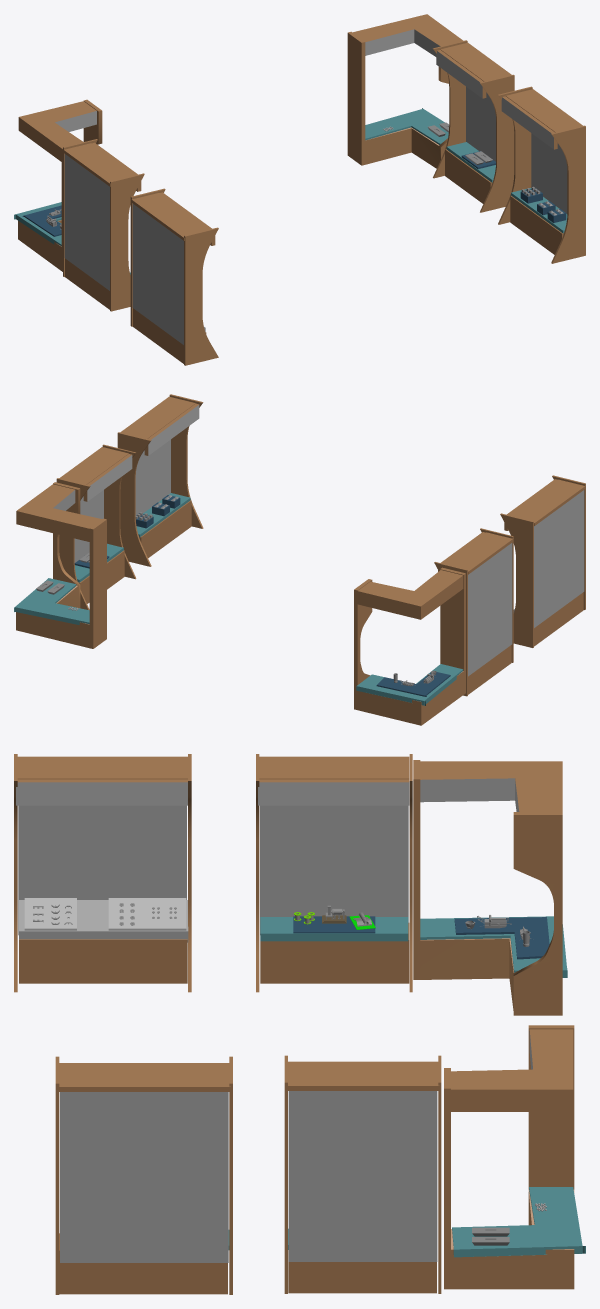
Rendered from ruangan8_gabungan.fbx.
The picture shows the model from 3 angles, top to bottom: view 1: azimuth 30°, elevation 25°; view 2: azimuth 150°, elevation 25°; view 3: azimuth 270°, elevation 25°; orthographic projection. The views are drawn at different scales.
Parts seen in each view (by area): view 1: lemarikapalisapproduksi_ruangana_4 (×4), polySurface191 (×2), polySurface178 (×4), pCube454, pCube455, pCube450, pCube458, pCube465; view 2: lemarikapalisapproduksi_ruangana_4 (×4), polySurface191 (×2), polySurface178 (×4), pCube454, pCube450, pCube455, pCube465; view 3: lemarikapalisapproduksi_ruangana_4 (×4), polySurface191 (×2), polySurface178 (×4), pCube454, pCube421, pCylinder74, pCube436, pCube455, pCube450, pCube449, pCube451, pCube464.
Part boxes in pixels (box(x1,y1,x2,y2)): lemarikapalisapproduksi_ruangana_4 (×4): box(63, 40, 585, 365); polySurface191 (×2): box(18, 14, 463, 271); polySurface178 (×4): box(65, 149, 563, 363); pCube454: box(365, 108, 448, 144); pCube455: box(22, 205, 61, 236); pCube450: box(14, 202, 61, 246); pCube458: box(446, 142, 495, 182); pCube465: box(511, 188, 567, 233); lemarikapalisapproduksi_ruangana_4 (×4): box(56, 394, 585, 696); polySurface191 (×2): box(16, 482, 465, 725); polySurface178 (×4): box(78, 500, 583, 694); pCube454: box(14, 578, 89, 624); pCube450: box(356, 664, 463, 705); pCube455: box(376, 670, 450, 696); pCube465: box(136, 493, 190, 537); lemarikapalisapproduksi_ruangana_4 (×4): box(14, 754, 441, 1294); polySurface191 (×2): box(413, 760, 574, 1289); polySurface178 (×4): box(19, 923, 436, 1294); pCube454: box(452, 1187, 585, 1257); pCube421: box(19, 900, 188, 942); pCylinder74: box(108, 898, 186, 930); pCube436: box(260, 917, 408, 941); pCube455: box(454, 915, 549, 959); pCube450: box(420, 916, 567, 977); pCube449: box(24, 898, 76, 930); pCube451: box(293, 905, 375, 933); pCube464: box(472, 1227, 509, 1245).
Bounding box in the file's own units: 15.08 × 4.44 × 10.88.
